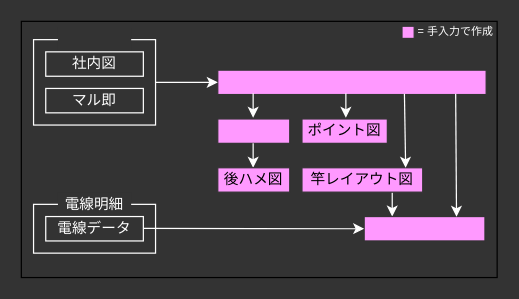
This 519x299 diagram has some shape labels left out. The centre of each missing label's shape, as x and y in pixels:
サブ図: point 253,130
主管工場: point 94,39
回路マトリクス: point 351,82
自動機切断データ: point 424,228
